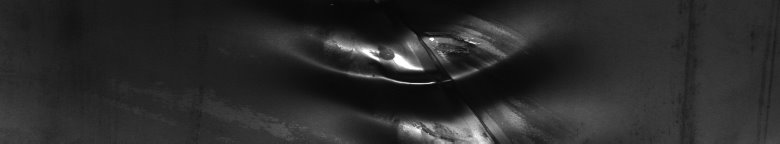ke: (264, 12, 544, 136)
